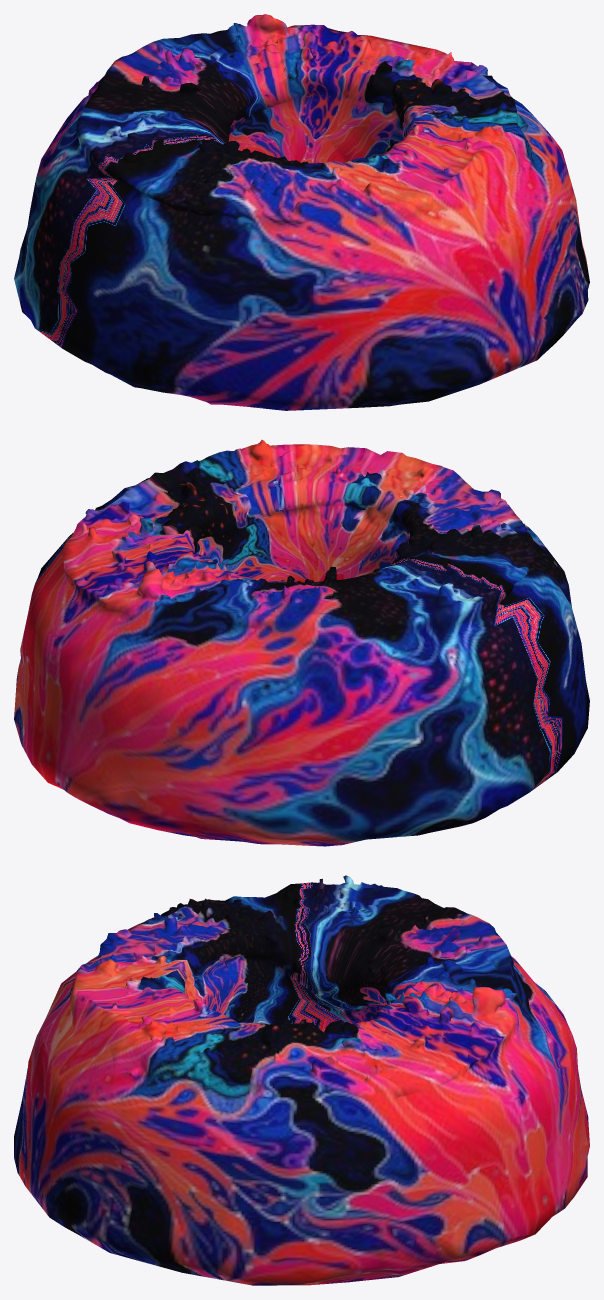
File: ph_carrot_cake.glb
3 renders of one model, top to bottom at view 1: azimuth 30°, elevation 25°; view 2: azimuth 150°, elevation 25°; view 3: azimuth 270°, elevation 25°, orthographic. The views are drawn at different scales.
Visible parts, largest first — view 1: A; view 2: A; view 3: A.
Part boxes in pixels (x1,y1,x2,y2): A: [14, 14, 589, 410]; A: [14, 439, 589, 846]; A: [14, 875, 589, 1285].
Size of the model in its own units: 2 by 0.8657 by 2.
1 material, 1 textured.
